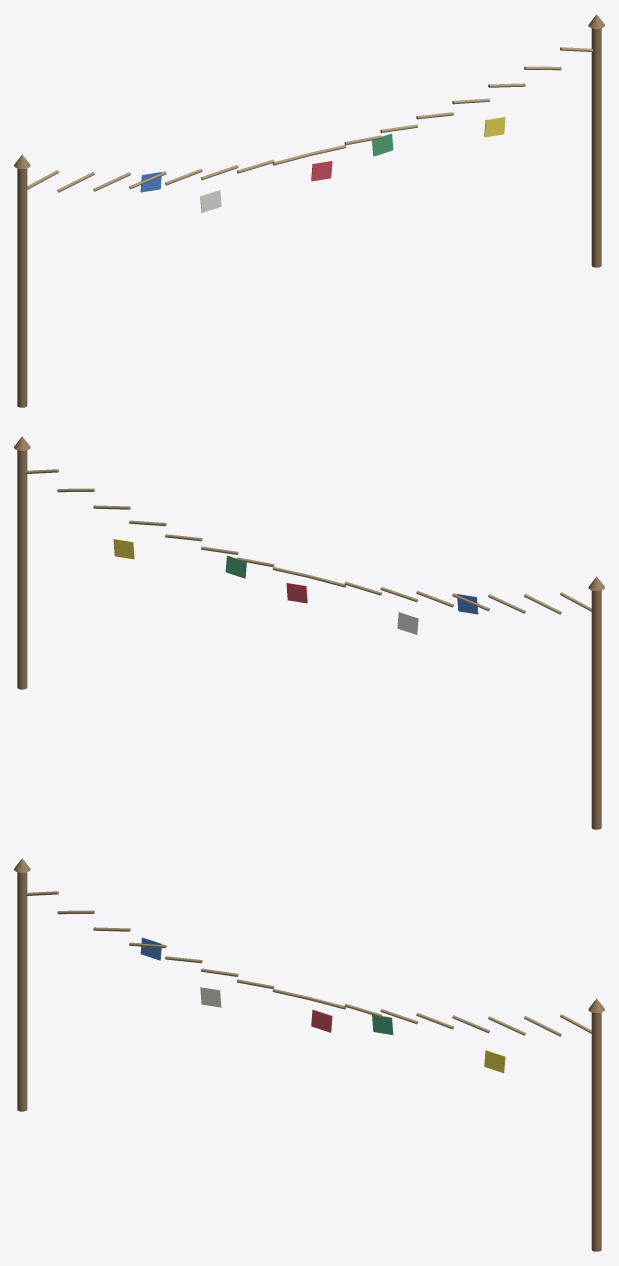
Rendered from prayer_flags.glb.
3 views of the same model, one above another, from view 1: azimuth 30°, elevation 25°; view 2: azimuth 150°, elevation 25°; view 3: azimuth 330°, elevation 25° (orthographic).
Visible parts, largest first — view 1: Cylinder, Cylinder.001; view 2: Cylinder, Cylinder.001; view 3: Cylinder.001, Cylinder.
Part boxes in pixels (<box>): Cylinder: <box>17,168,27,407</box>; Cylinder.001: <box>591,28,601,267</box>; Cylinder: <box>591,590,601,829</box>; Cylinder.001: <box>17,450,27,689</box>; Cylinder.001: <box>591,1012,601,1251</box>; Cylinder: <box>17,872,27,1111</box>.
Size of the model in its own units: 8.2 by 3.34 by 0.2.
